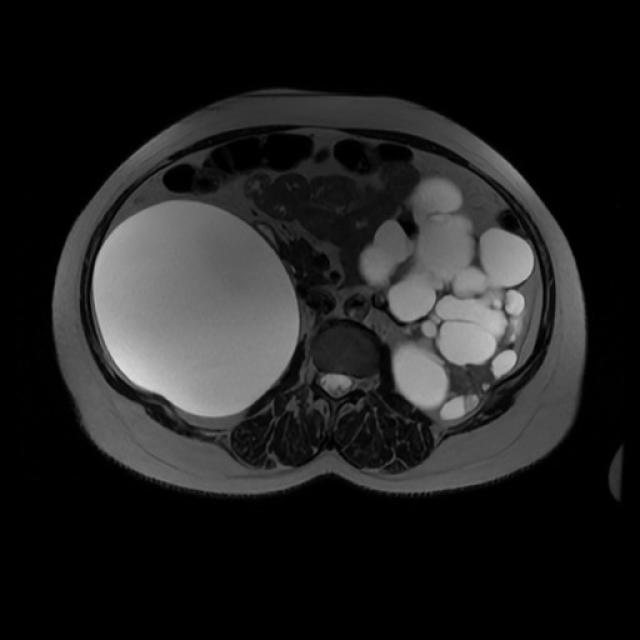sag: (94, 200, 300, 420)
sol: (358, 177, 534, 418)
